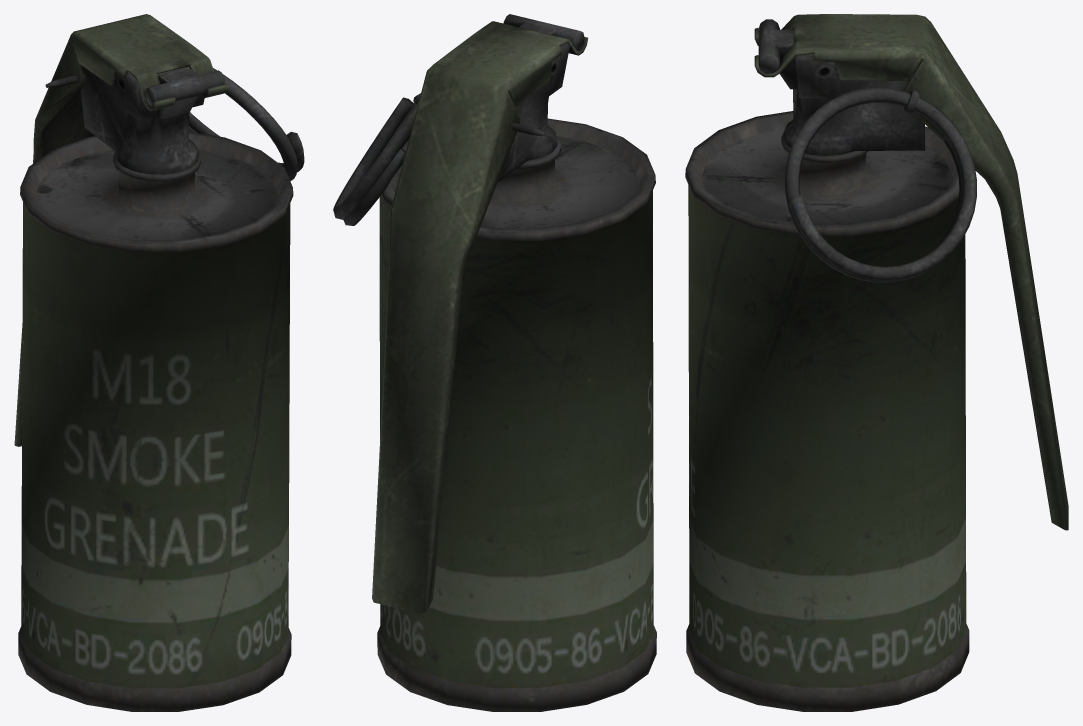
The model's file is Weapons_Grenades_SmokeGrenade_LOD0.glb.
3 views of the same model, side by side, from view 1: azimuth 30°, elevation 25°; view 2: azimuth 150°, elevation 25°; view 3: azimuth 270°, elevation 25° (orthographic). The views are drawn at different scales.
Visible parts, largest first — view 1: Hoodie; view 2: Hoodie; view 3: Hoodie.
Boxes of the visible parts, <box> form: Hoodie: <box>14,14,304,711</box>; Hoodie: <box>333,14,656,711</box>; Hoodie: <box>685,14,1068,711</box>.
Size of the model in its own units: 0.0625 by 0.1354 by 0.0757.
Materials: 1 (1 with a texture image).
